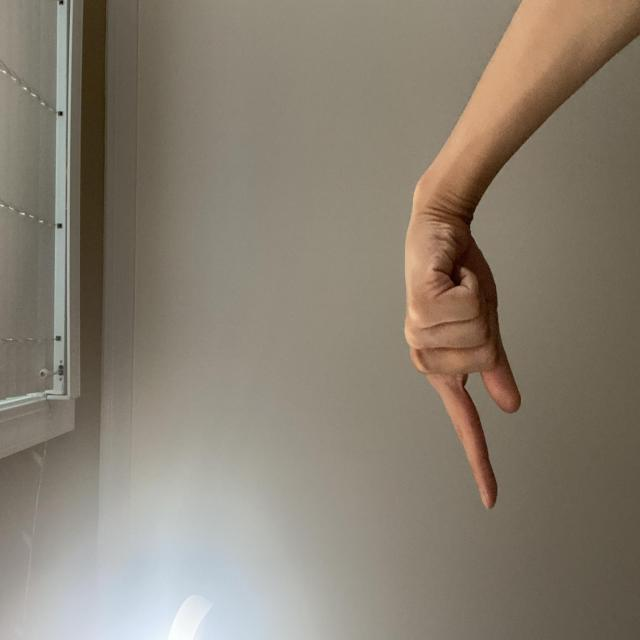G: (90, 533, 359, 640)
